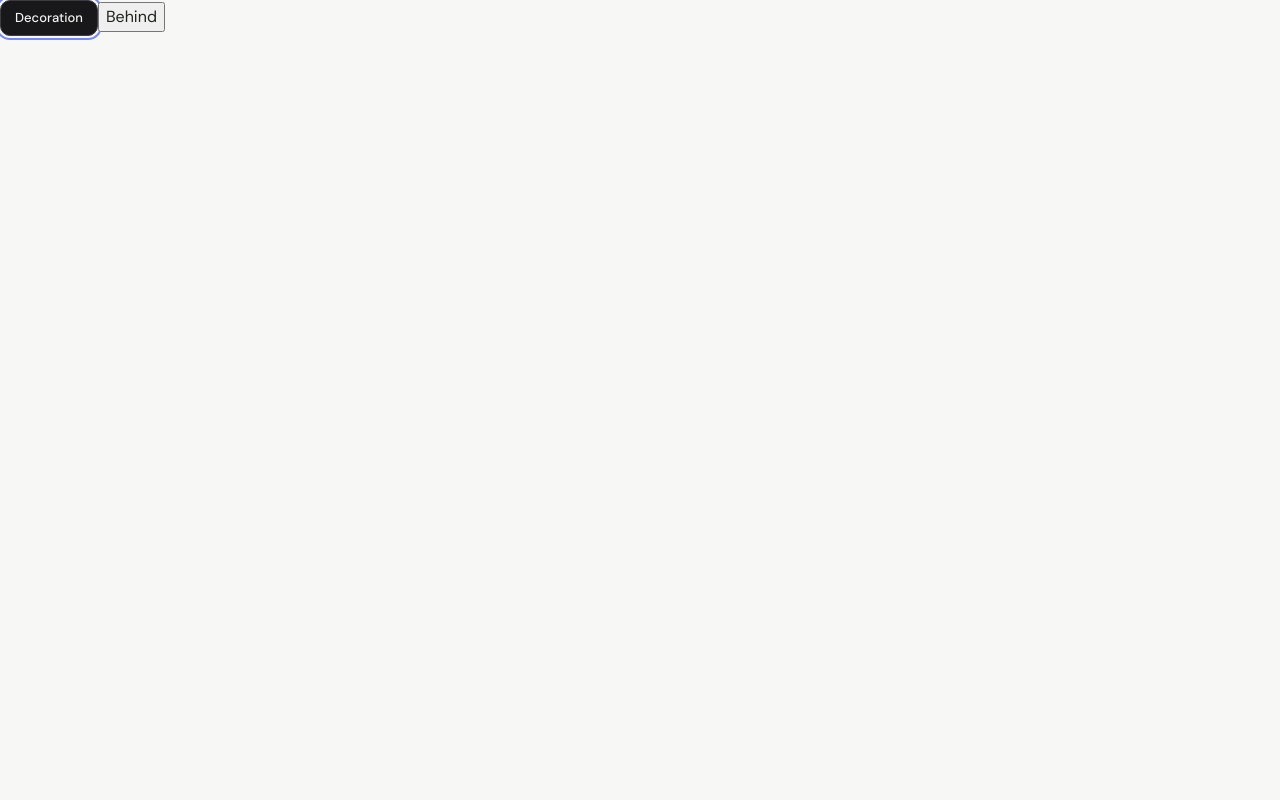
Scenario: Dialog › closes from the close button and the scrim
This screenshot has width=1280, height=800.
Click the button "Decoration" at [49, 18], box [0,0,98,36]
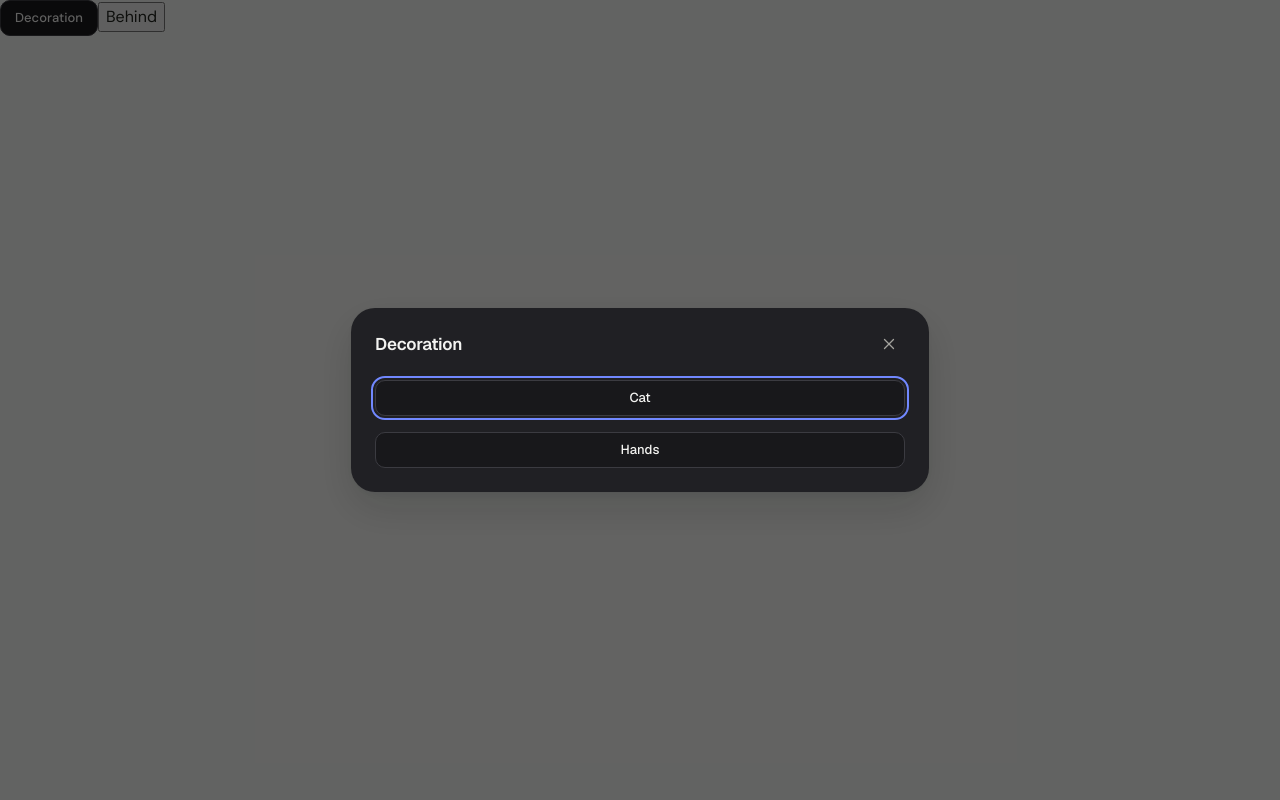
Click the button named "Close" at [889, 344], box [873,328,905,360]
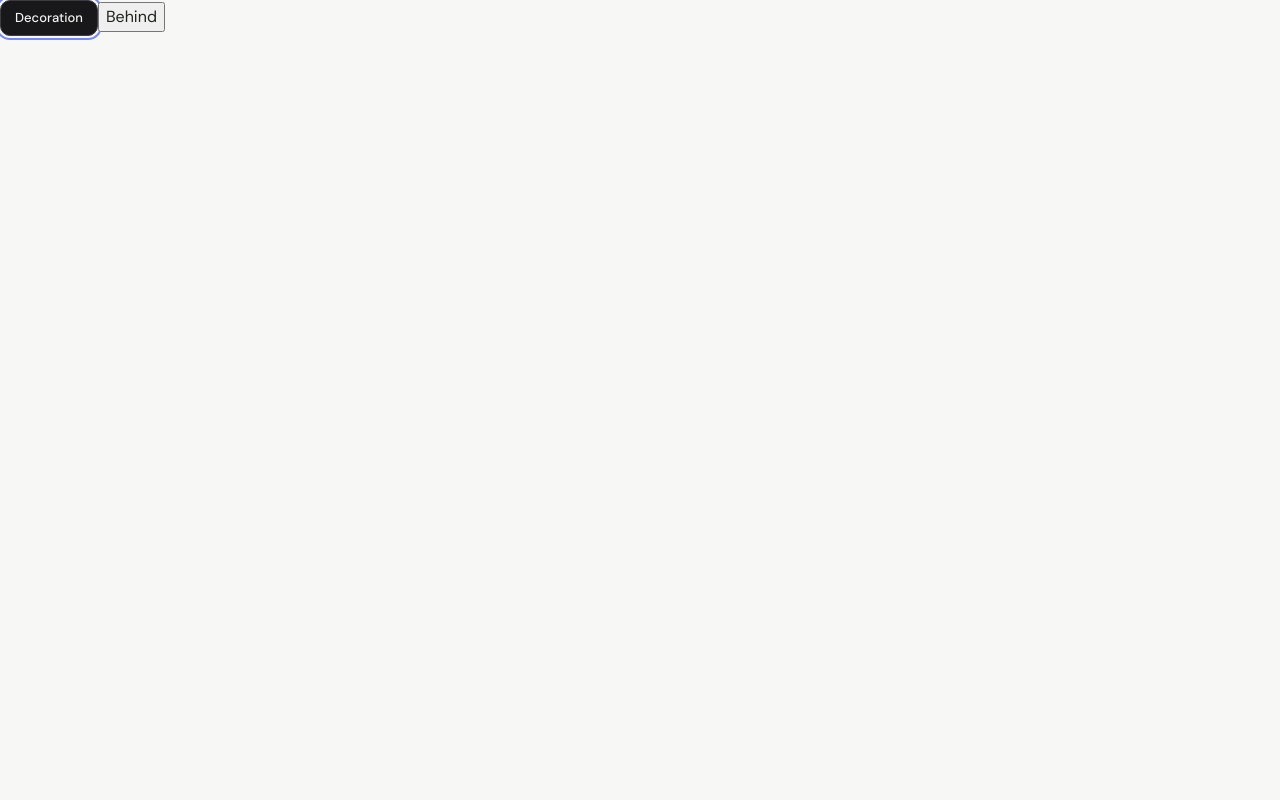
Result: the dialog is gone
Click the button "Decoration" at [49, 18], box [0,0,98,36]
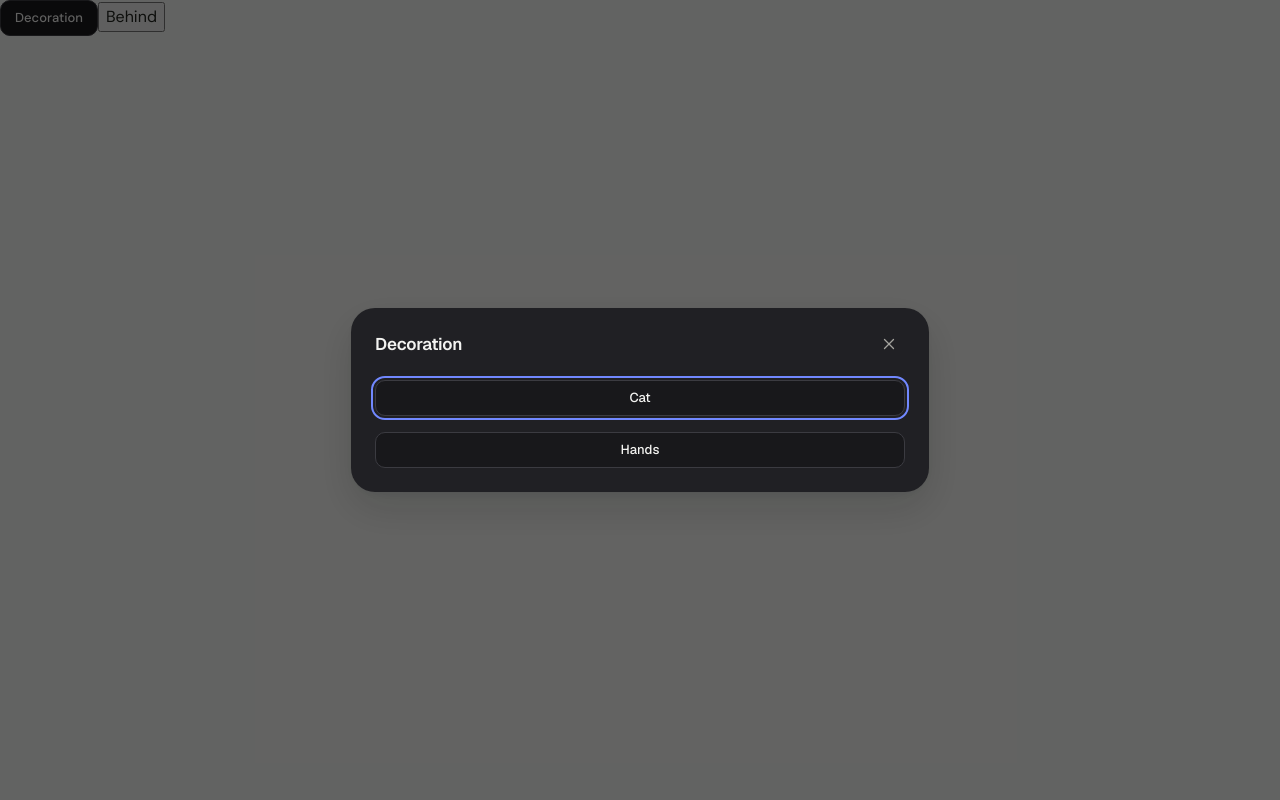
Click the element with class "wb-dialog-scrim" at [77, 400], box [0,0,1279,799]
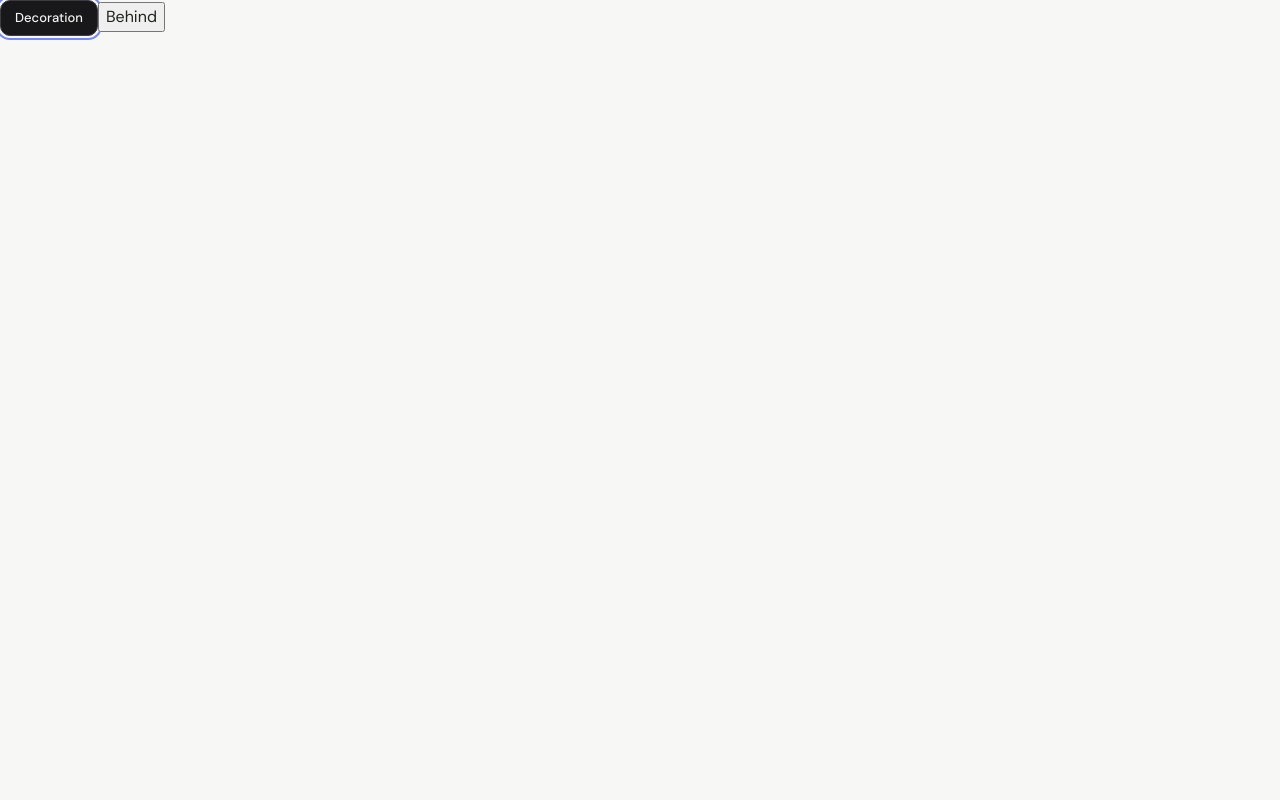
Result: the dialog is gone
